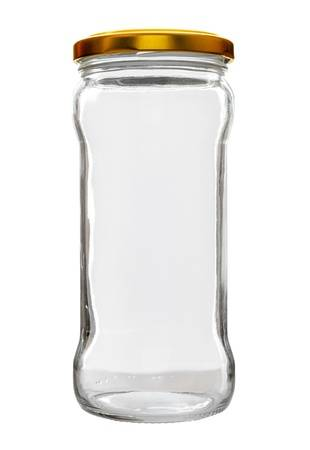Rec_Glass: (52, 20, 265, 432)
